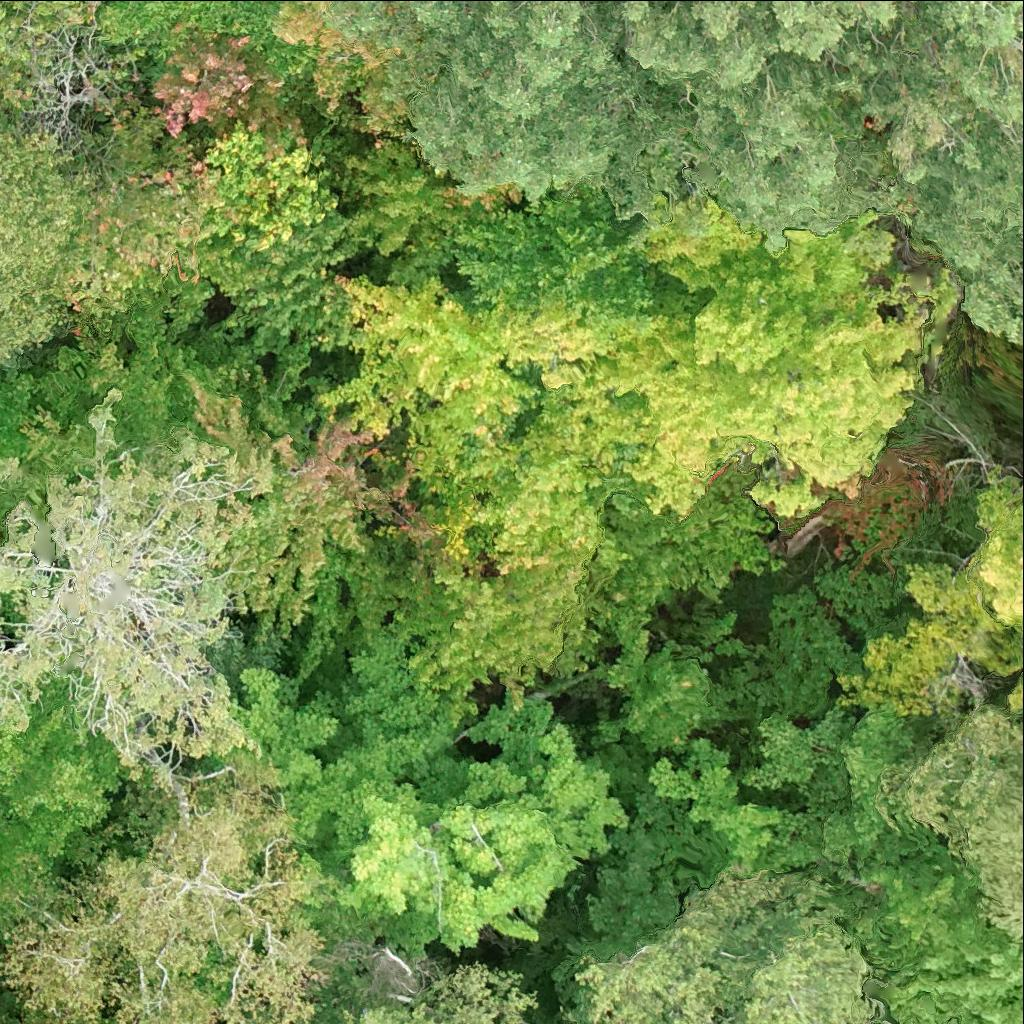crown: (325, 0, 715, 230), (0, 443, 259, 776), (2, 776, 319, 1023), (622, 0, 899, 254), (334, 723, 627, 955), (575, 325, 921, 514), (858, 0, 1023, 338), (840, 470, 1023, 718), (576, 874, 864, 1023), (0, 647, 145, 933), (54, 107, 218, 316), (878, 706, 1023, 936), (692, 251, 926, 380), (839, 867, 1023, 1023), (345, 143, 522, 287), (454, 191, 650, 315), (82, 0, 322, 101), (0, 112, 91, 363), (273, 0, 404, 120), (618, 185, 770, 286), (151, 25, 285, 138), (272, 965, 531, 1023), (771, 207, 895, 322), (747, 918, 872, 1023), (0, 0, 87, 134), (676, 1000, 749, 1023), (1008, 672, 1023, 709), (247, 1019, 264, 1023)
